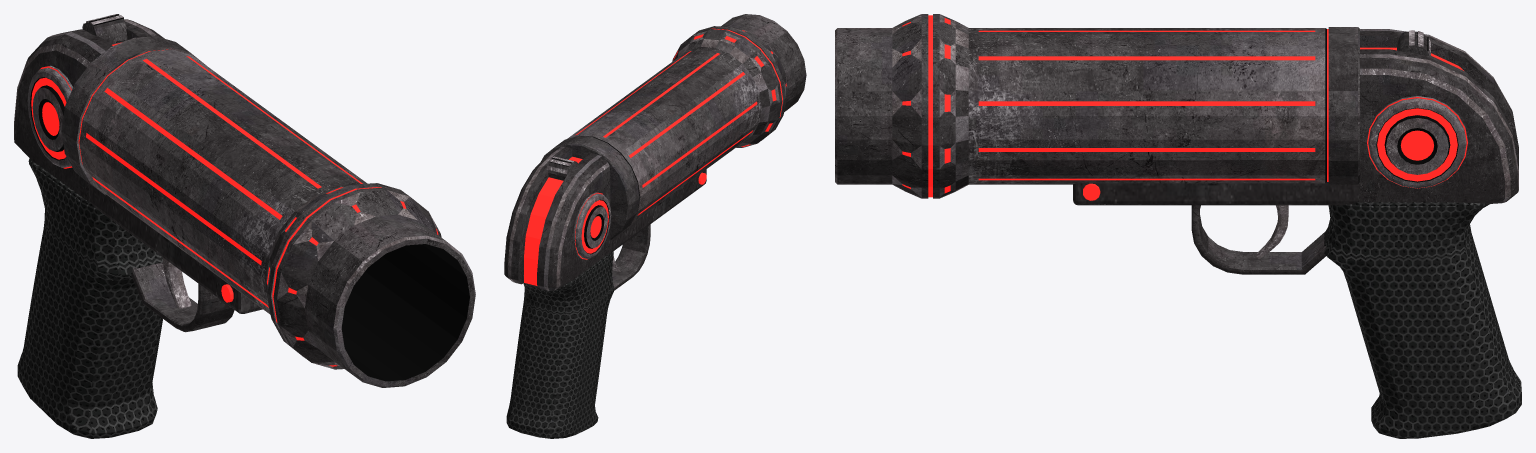
The model's file is lanzagranadas.fbx.
3 renders of one model, left to right at view 1: azimuth 30°, elevation 25°; view 2: azimuth 150°, elevation 25°; view 3: azimuth 270°, elevation 25°, orthographic. The views are drawn at different scales.
Visible parts, largest first — view 1: hammer; view 2: hammer; view 3: hammer.
Boxes of the visible parts, x1,y1,x2,y2 form: hammer: (14, 14, 475, 438); hammer: (504, 14, 806, 438); hammer: (835, 14, 1521, 438).
Size of the model in its own units: 232 by 554 by 858.
Materials: 5 (3 with a texture image).
